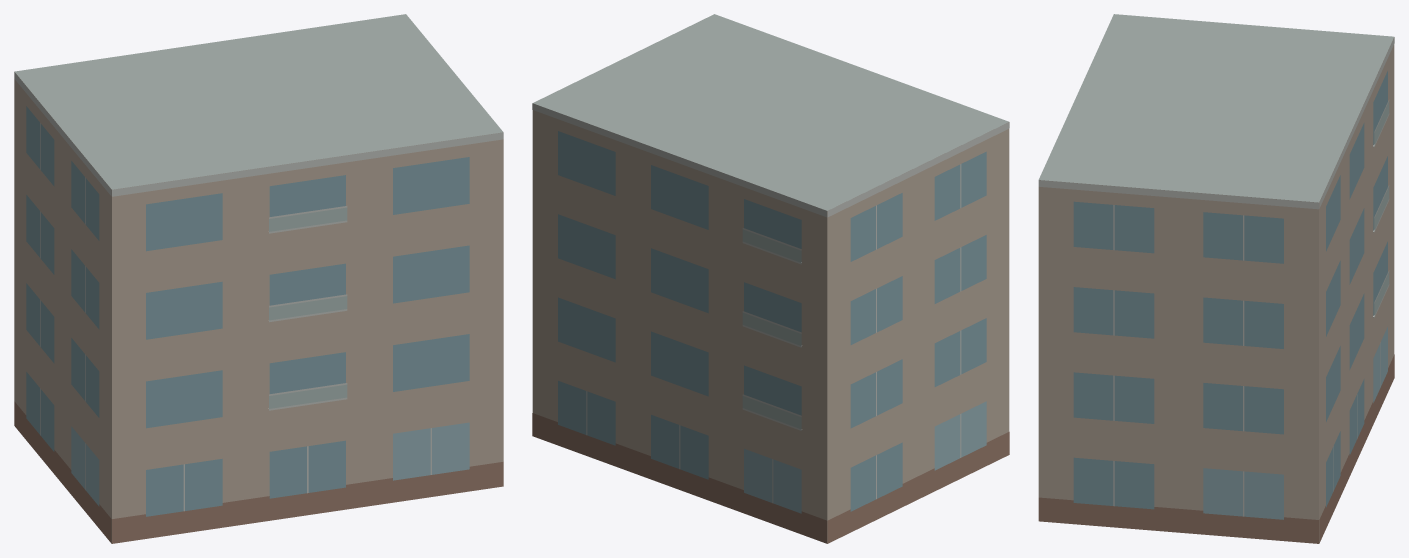
File: survey-upis-33018909.glb
3 renders of one model, left to right at view 1: azimuth 30°, elevation 25°; view 2: azimuth 150°, elevation 25°; view 3: azimuth 270°, elevation 25°, orthographic. The views are drawn at different scales.
Parts seen in each view (by area): view 1: survey-upis-33018909.tmp; view 2: survey-upis-33018909.tmp; view 3: survey-upis-33018909.tmp.
Part boxes in pixels (x1,y1,x2,y2): survey-upis-33018909.tmp: (14,14,503,543); survey-upis-33018909.tmp: (532,14,1009,543); survey-upis-33018909.tmp: (1038,14,1394,543).
Bounding box in the file's own units: 14.46 × 12.2 × 11.54.
